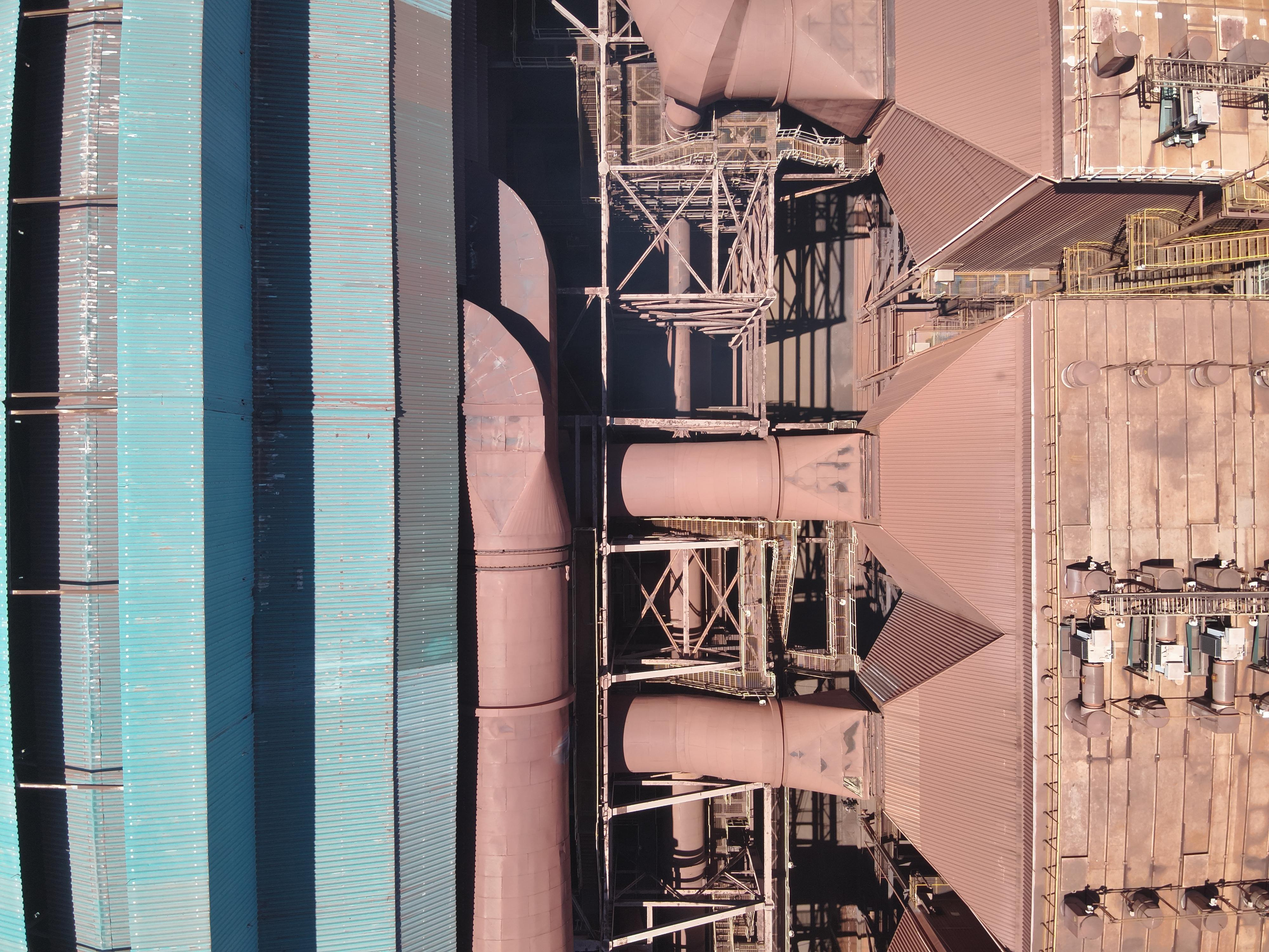Failures: (841, 775, 866, 799)
